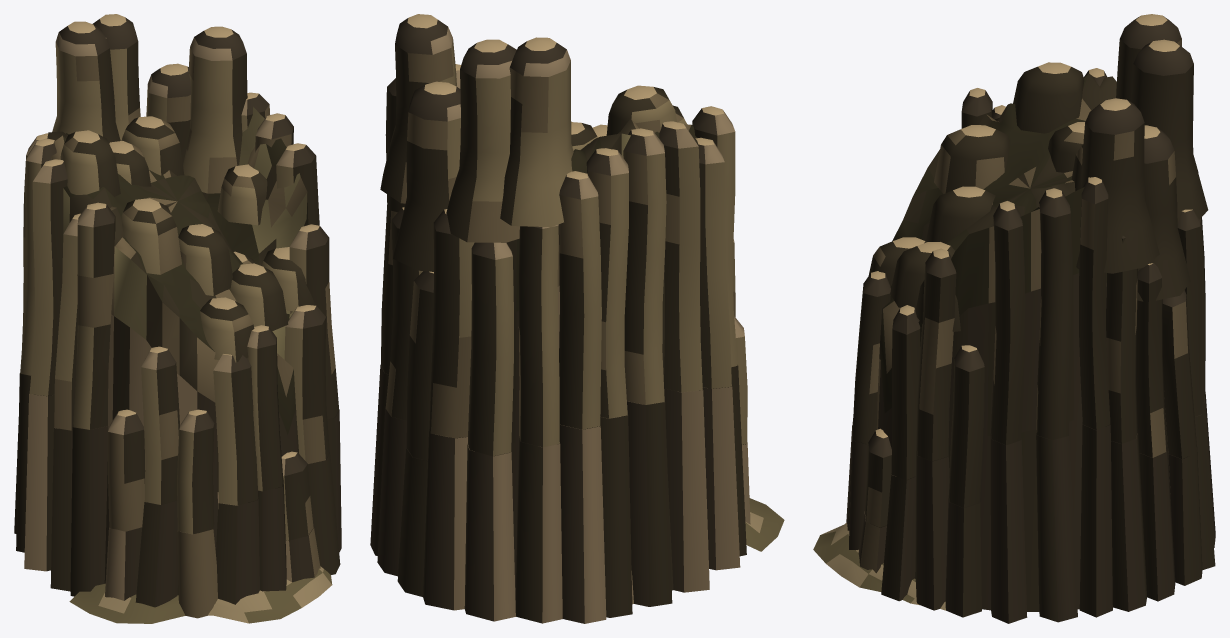
Rendered from ZonTmound03.glb.
3 views of the same model, side by side, from view 1: azimuth 30°, elevation 25°; view 2: azimuth 150°, elevation 25°; view 3: azimuth 270°, elevation 25° (orthographic). The views are drawn at different scales.
Parts seen in each view (by area): view 1: mound_core; view 2: mound_core; view 3: mound_core.
Part boxes in pixels (bbox=[...]): mound_core: bbox=[14, 14, 341, 623]; mound_core: bbox=[370, 14, 784, 623]; mound_core: bbox=[813, 14, 1215, 623].
Bounding box in the file's own units: 3.48 × 5.66 × 4.03.
